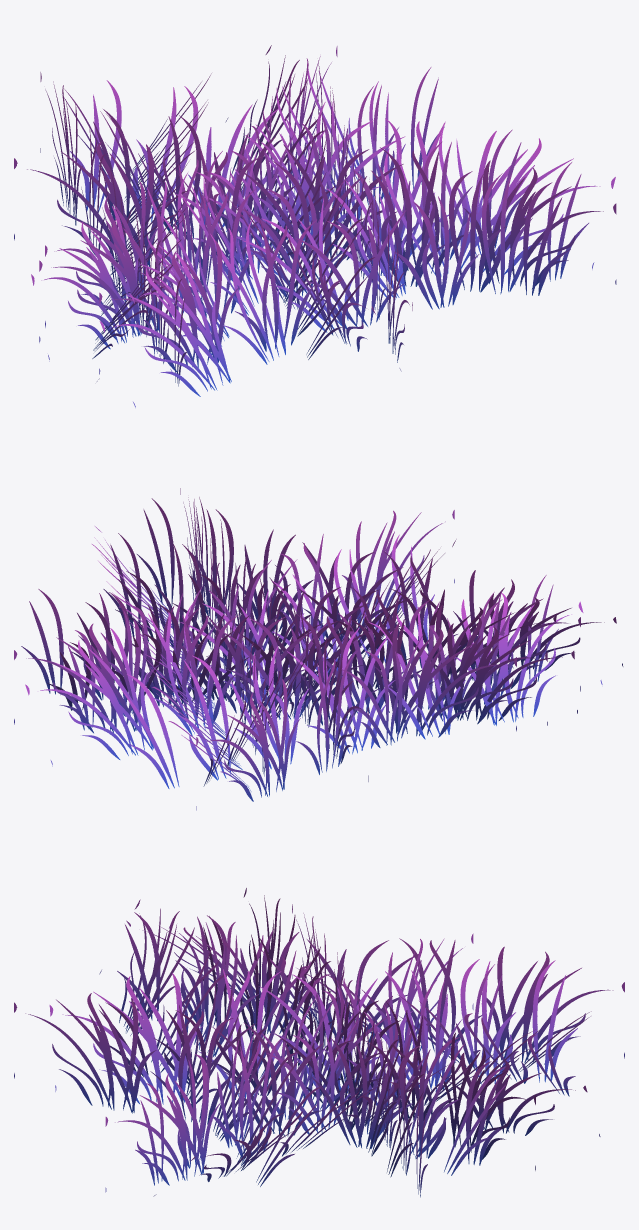
File: GrassPatch_Low_A.FBX
The picture shows the model from 3 angles, top to bottom: view 1: azimuth 30°, elevation 25°; view 2: azimuth 150°, elevation 25°; view 3: azimuth 270°, elevation 25°; orthographic projection. The views are drawn at different scales.
Parts seen in each view (by area): view 1: GrassPatch_Low_A; view 2: GrassPatch_Low_A; view 3: GrassPatch_Low_A.
Part boxes in pixels (x1,y1,x2,y2): GrassPatch_Low_A: (14,45,616,407); GrassPatch_Low_A: (14,488,623,810); GrassPatch_Low_A: (14,888,624,1197).
Size of the model in its own units: 2.19 by 0.5085 by 2.16.
